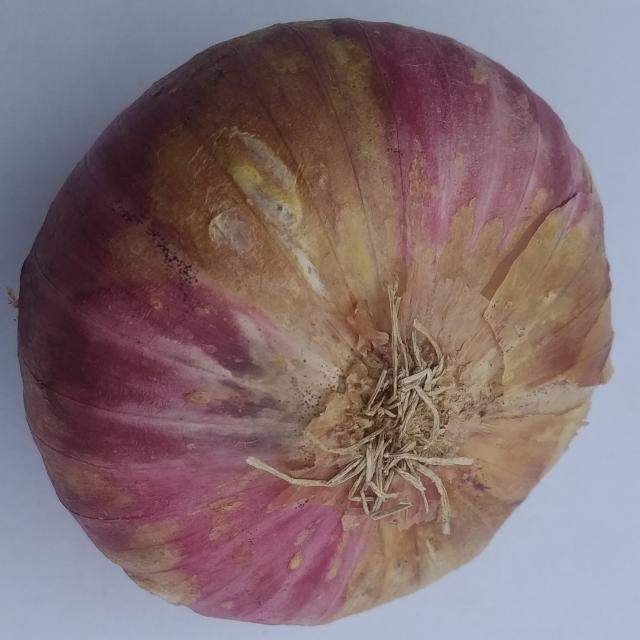onion: (8, 18, 616, 628)
